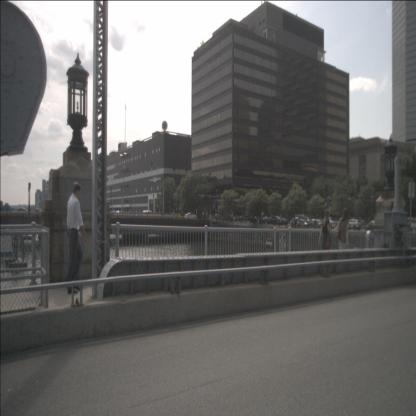human-pedestrian-adult: (65, 181, 87, 294), (318, 209, 332, 270), (336, 208, 349, 268)
vehicle-car: (268, 214, 286, 226), (290, 216, 308, 228), (344, 218, 361, 230), (257, 214, 272, 226), (306, 218, 322, 229), (184, 212, 198, 222), (15, 207, 28, 216), (32, 208, 42, 216)
